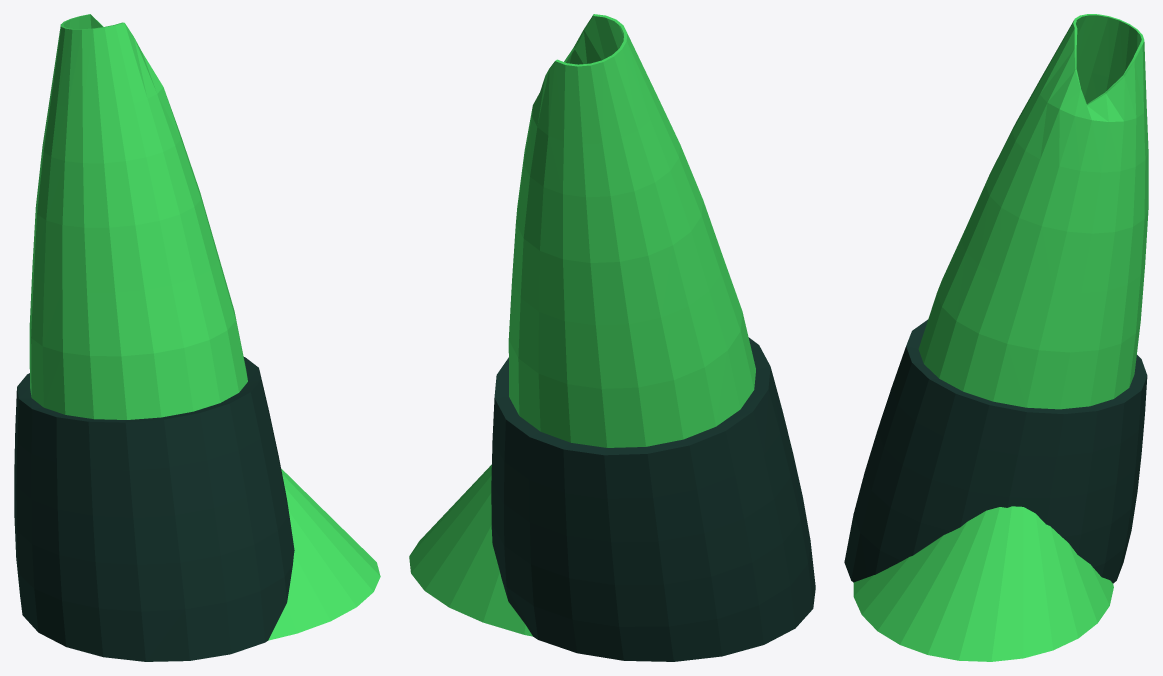
Rendered from Peridot pie izquierdo.obj.
3 renders of one model, left to right at view 1: azimuth 30°, elevation 25°; view 2: azimuth 150°, elevation 25°; view 3: azimuth 270°, elevation 25°, orthographic. The views are drawn at different scales.
Parts seen in each view (by area): view 1: Pierna_izquierda_2, Pie_izquierdo; view 2: Pierna_izquierda_2, Pie_izquierdo; view 3: Pierna_izquierda_2, Pie_izquierdo.
Boxes of the visible parts, bbox=[...] form: Pierna_izquierda_2: bbox=[14, 14, 294, 661]; Pie_izquierdo: bbox=[268, 468, 380, 640]; Pierna_izquierda_2: bbox=[491, 14, 815, 661]; Pie_izquierdo: bbox=[409, 464, 532, 636]; Pierna_izquierda_2: bbox=[844, 14, 1148, 583]; Pie_izquierdo: bbox=[853, 506, 1113, 661].
Size of the model in its own units: 3.61 by 5.72 by 2.92.
